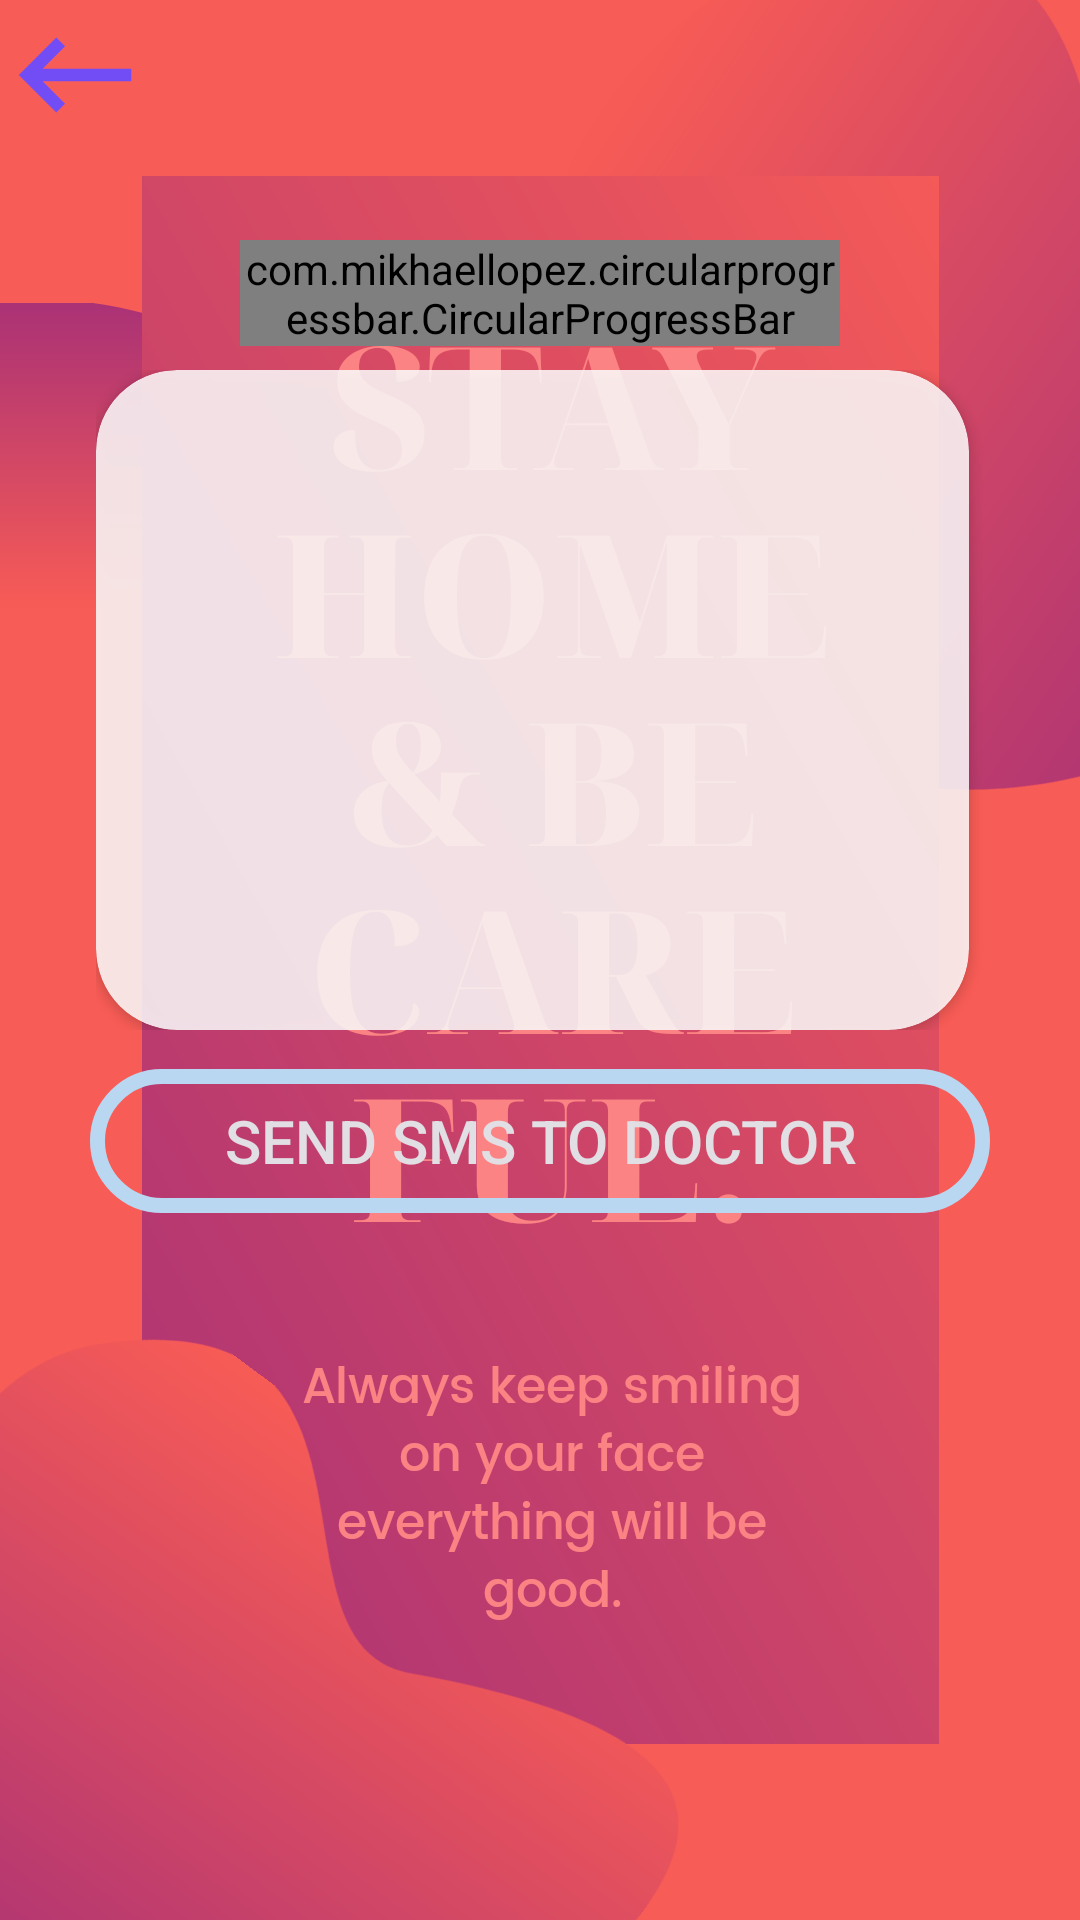

Point at icon controls on the screen. Image size 1080*1920, points as (x=x, y=y).
keyboard backspace: (x=75, y=75)
